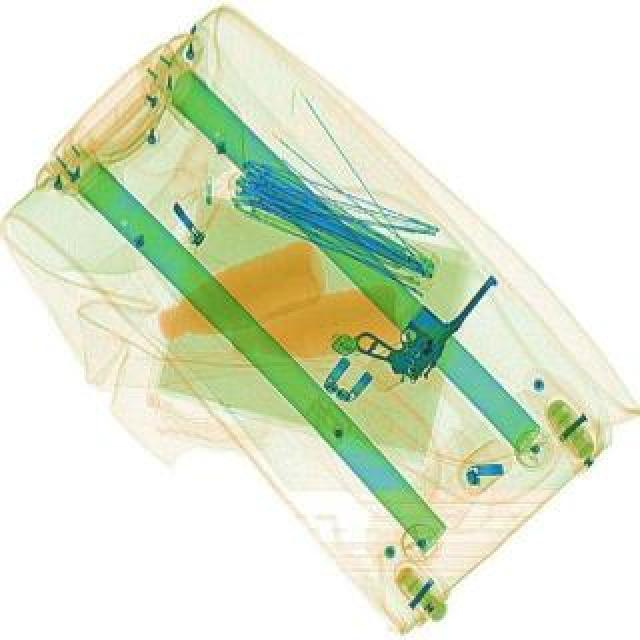gun: (350, 236, 498, 388)
